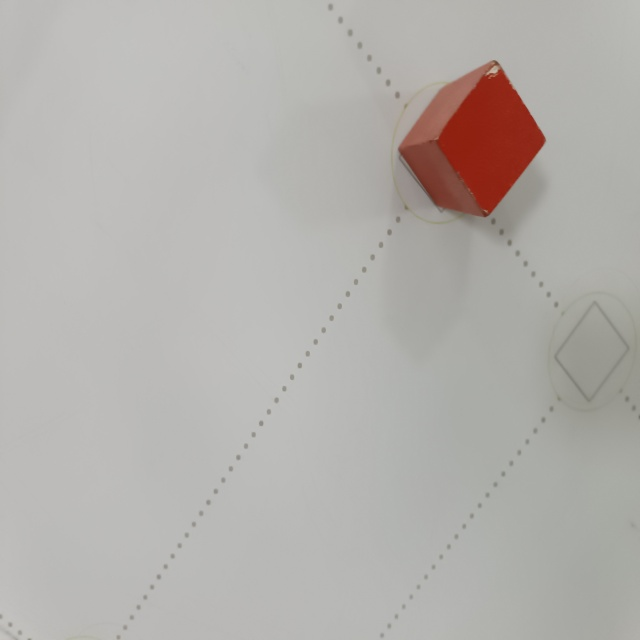red rectangular prism: (395, 60, 553, 216)
